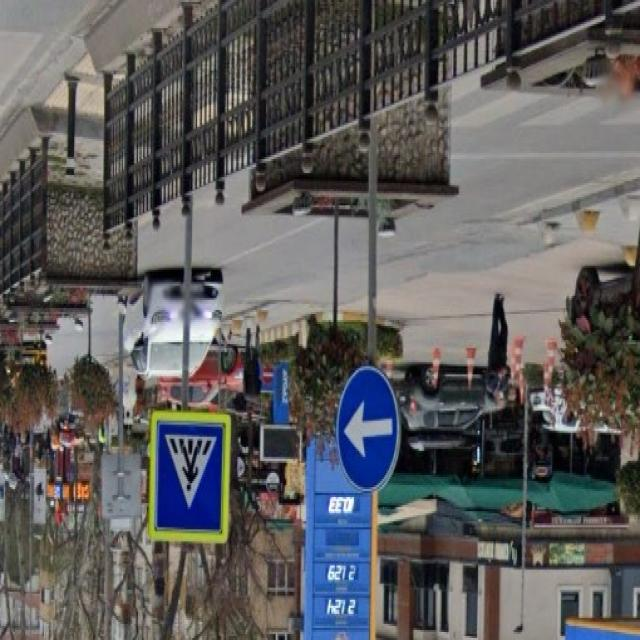Turn Left: (337, 372, 405, 503)
